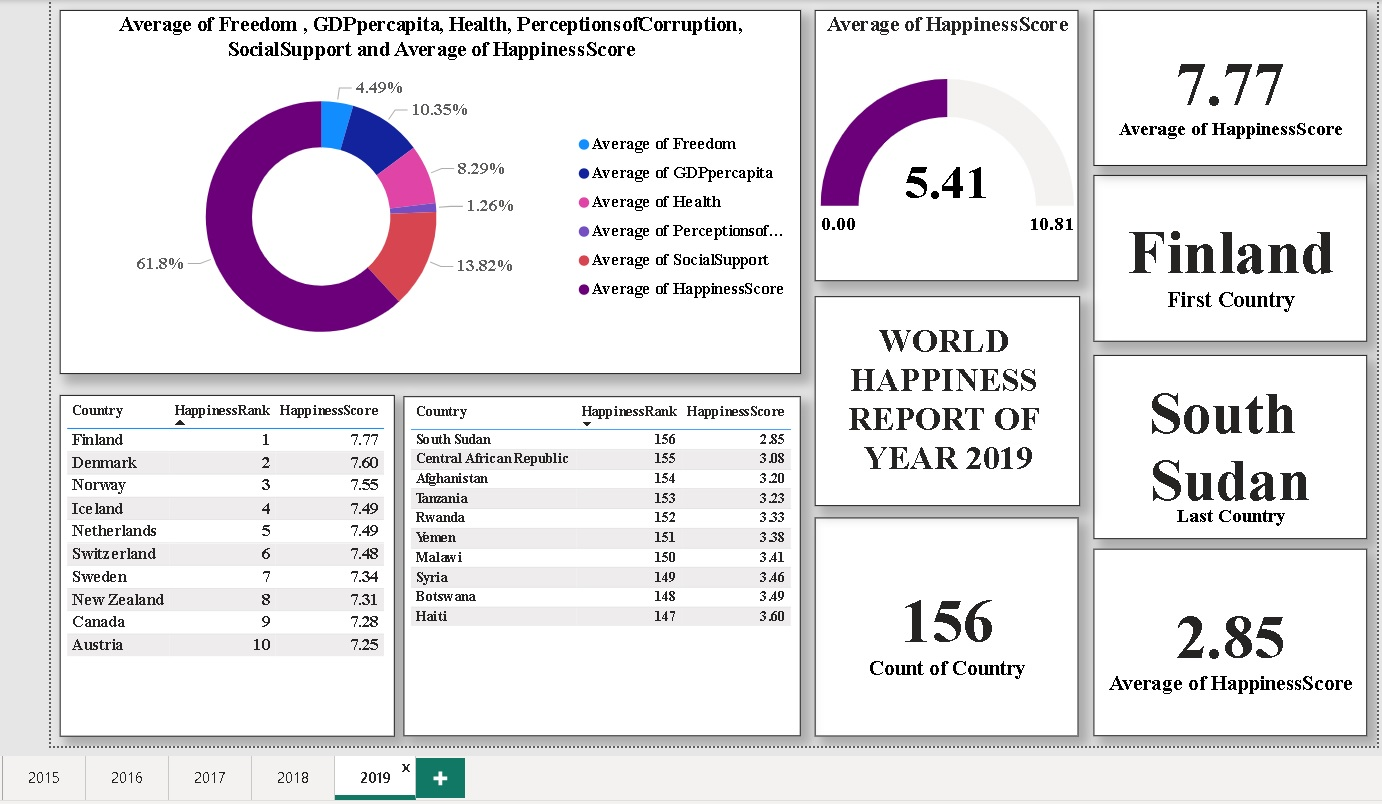

Layout of this report page (visuals, bound fields, positions):
{"tool":"powerbi","page":{"name":"2019","canvas":[1280,720],"ordinal":4},"visuals":[{"type":"card","fields":{"Values":["Count(processedhwr2019.Country)"]},"box":[736.9,499.3,254.5,211.1],"z":0},{"type":"tableEx","fields":{"Values":["processedhwr2019.Country","processedhwr2019.HappinessRank","processedhwr2019.HappinessScore"]},"box":[8.4,381.1,323.2,329.2],"z":1000},{"type":"tableEx","fields":{"Values":["processedhwr2019.Country","processedhwr2019.HappinessRank","processedhwr2019.HappinessScore"]},"box":[340.1,382.3,383.5,328],"z":2000},{"type":"card","fields":{"Values":["Min(processedhwr2019.Country)"]},"box":[1005.8,168.8,264.1,160.4],"z":3000},{"type":"card","fields":{"Values":["Max(processedhwr2019.Country)"]},"box":[1005.8,342.5,264.1,177.3],"z":4000},{"type":"card","fields":{"Values":["Avg(processedhwr2019.HappinessScore)"]},"box":[1005.8,9.6,264.1,150.8],"z":5000},{"type":"card","fields":{"Values":["Avg(processedhwr2019.HappinessScore)"]},"box":[1005.8,529.4,264.1,180.9],"z":6000},{"type":"donutChart","title":"Average of Freedom , GDPpercapita, Health, PerceptionsofCorruption, SocialSupport and Average of HappinessScore","fields":{"Y":["Avg(processedhwr2019.Freedom )","Avg(processedhwr2019.GDPpercapita)","Avg(processedhwr2019.Health)","Avg(processedhwr2019.PerceptionsofCorruption)","Avg(processedhwr2019.SocialSupport)","Avg(processedhwr2019.HappinessScore)"]},"box":[8.4,9.6,715.2,351],"z":7000},{"type":"gauge","fields":{"Y":["Avg(processedhwr2019.HappinessScore)"]},"box":[736.9,9.6,254.5,261.7],"z":8000},{"type":"textbox","box":[736.9,285.8,255.7,202.6],"z":9000}]}

Visuals, with their boxes in screenshot pixels (x1, y1, x2, y2):
card - Count(processedhwr2019.Country): x1=814, y1=513, x2=1076, y2=730
tableEx - processedhwr2019.Country x processedhwr2019.HappinessRank: x1=66, y1=391, x2=398, y2=729
tableEx - processedhwr2019.Country x processedhwr2019.HappinessRank: x1=407, y1=393, x2=801, y2=729
card - Min(processedhwr2019.Country): x1=1091, y1=173, x2=1362, y2=338
card - Max(processedhwr2019.Country): x1=1091, y1=352, x2=1362, y2=534
card - Avg(processedhwr2019.HappinessScore): x1=1091, y1=10, x2=1362, y2=165
card - Avg(processedhwr2019.HappinessScore): x1=1091, y1=544, x2=1362, y2=729
"Average of Freedom , GDPpercapita, Health, PerceptionsofCorruption, SocialSupport and Average of HappinessScore" donutChart: x1=66, y1=10, x2=801, y2=370
gauge - Avg(processedhwr2019.HappinessScore): x1=814, y1=10, x2=1076, y2=279
textbox: x1=814, y1=294, x2=1077, y2=502
